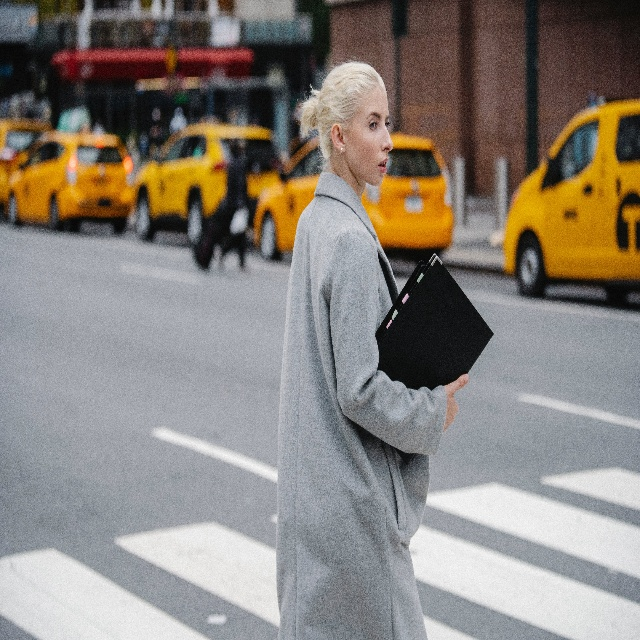Sin_guantes: (439, 370, 470, 433)
